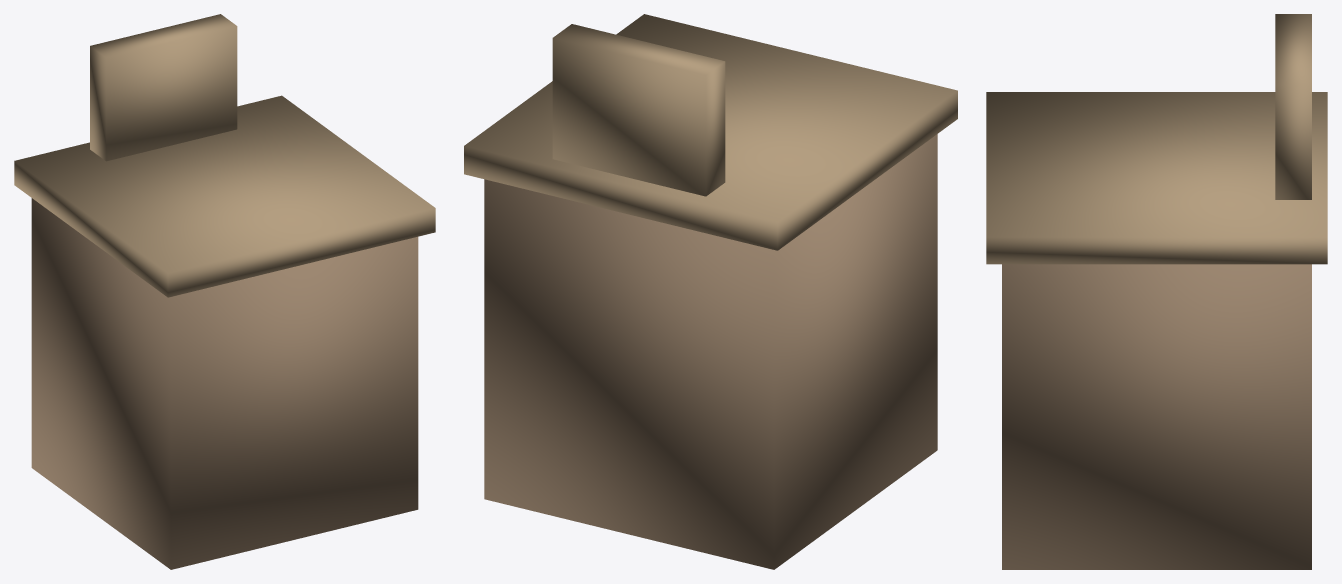
File: witness_stand__deep.glb
The picture shows the model from 3 angles, left to right: view 1: azimuth 30°, elevation 25°; view 2: azimuth 150°, elevation 25°; view 3: azimuth 270°, elevation 25°; orthographic projection. The views are drawn at different scales.
Parts seen in each view (by area): view 1: world; view 2: world; view 3: world.
Boxes of the visible parts, x1,y1,x2,y2 form: world: (14, 14, 435, 569); world: (464, 14, 957, 569); world: (986, 14, 1327, 569).
Size of the model in its own units: 0.92 by 1.34 by 0.915.
